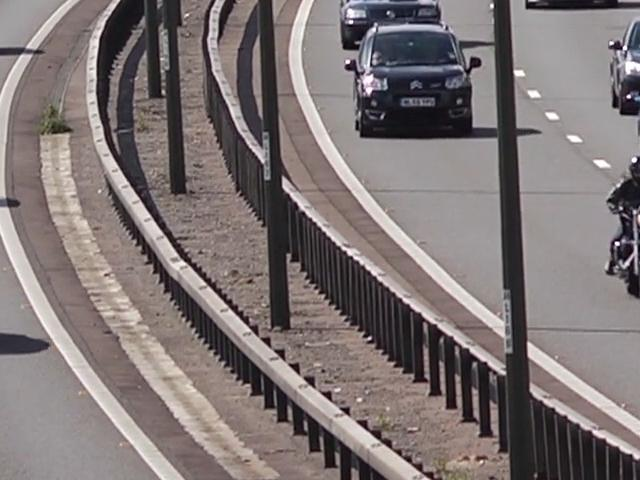car: (345, 18, 483, 140), (338, 0, 451, 51), (606, 16, 640, 114)
motorcycle: (596, 155, 640, 296)
